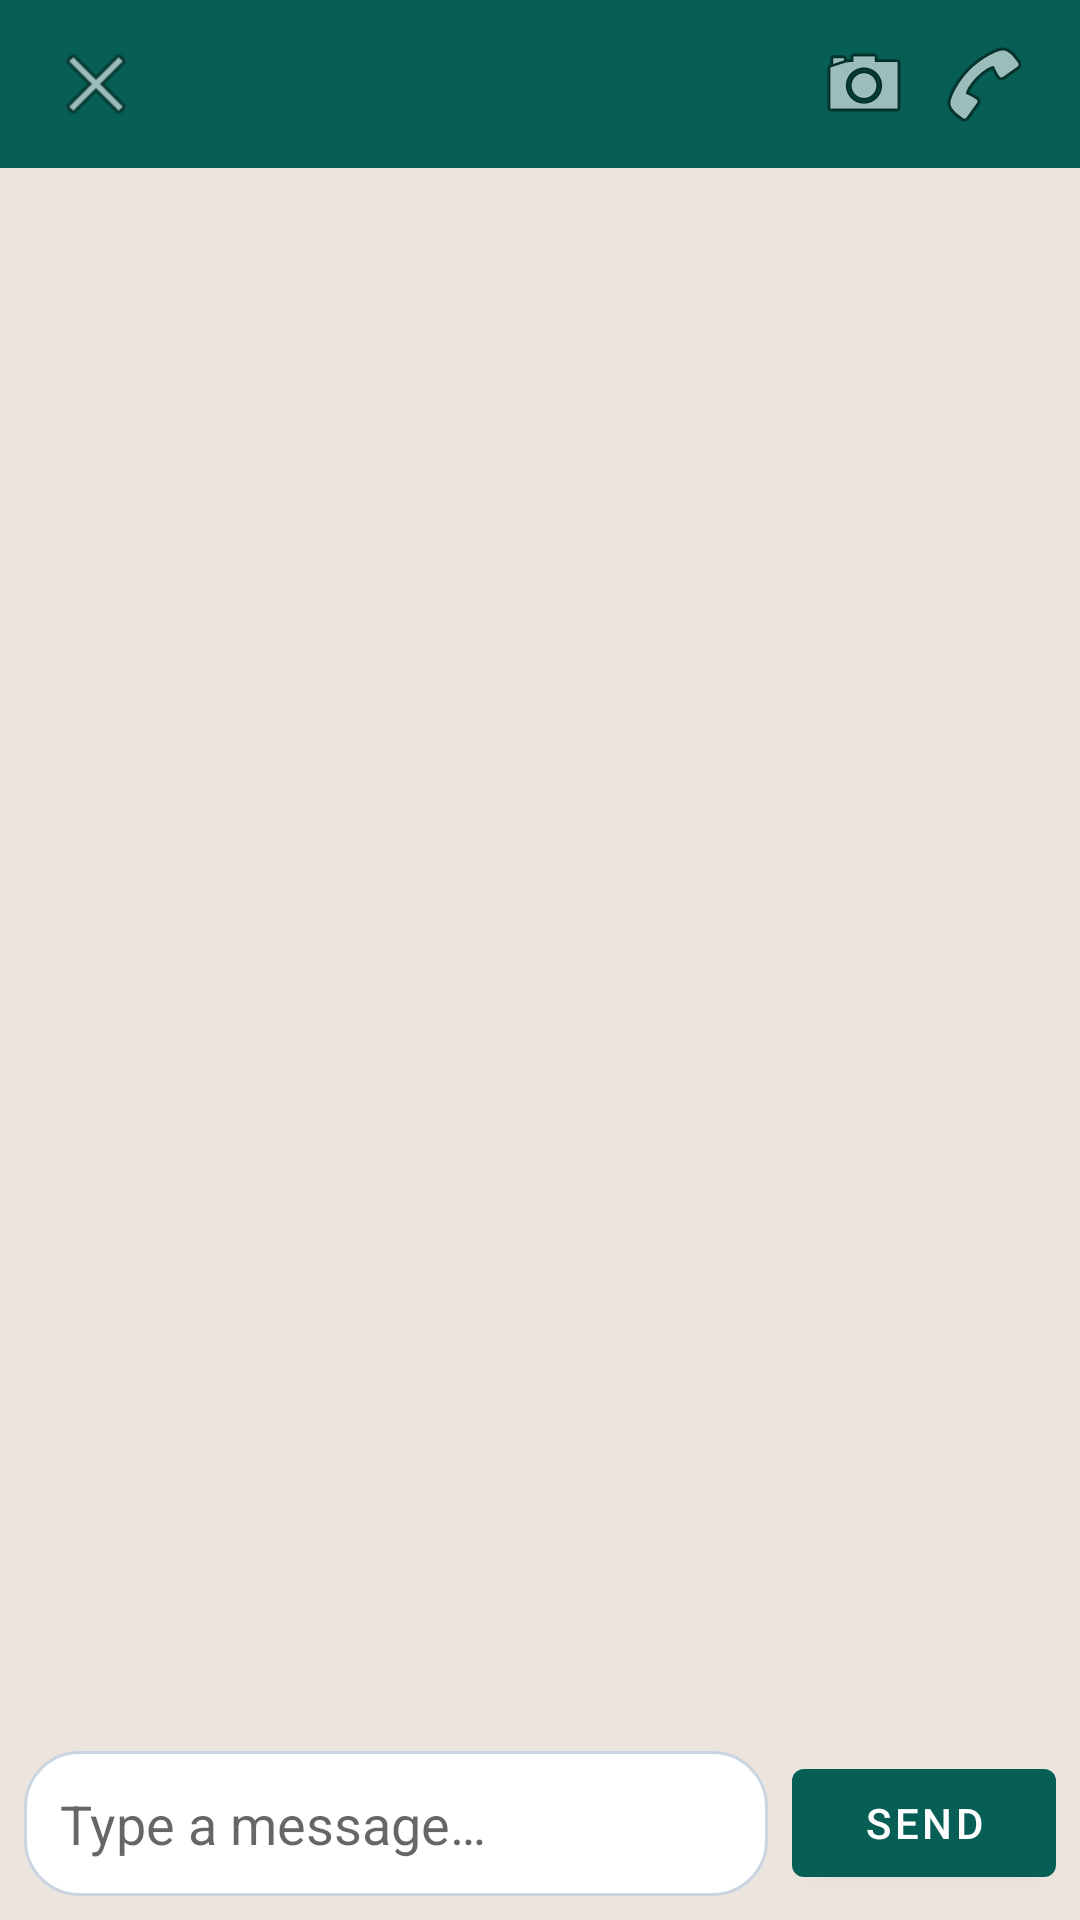

Named icons in this screenshot (1080 x 1920) and their centers, (x=x, y=y):
Call: (x=984, y=84)
